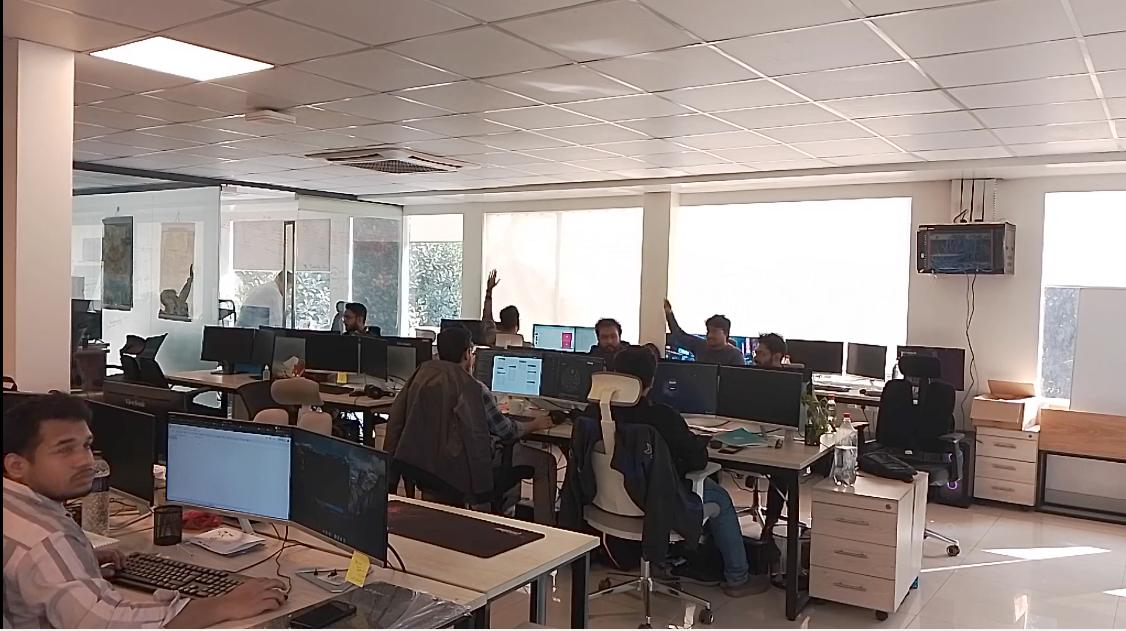hand: (658, 292, 695, 345), (478, 262, 500, 317)
